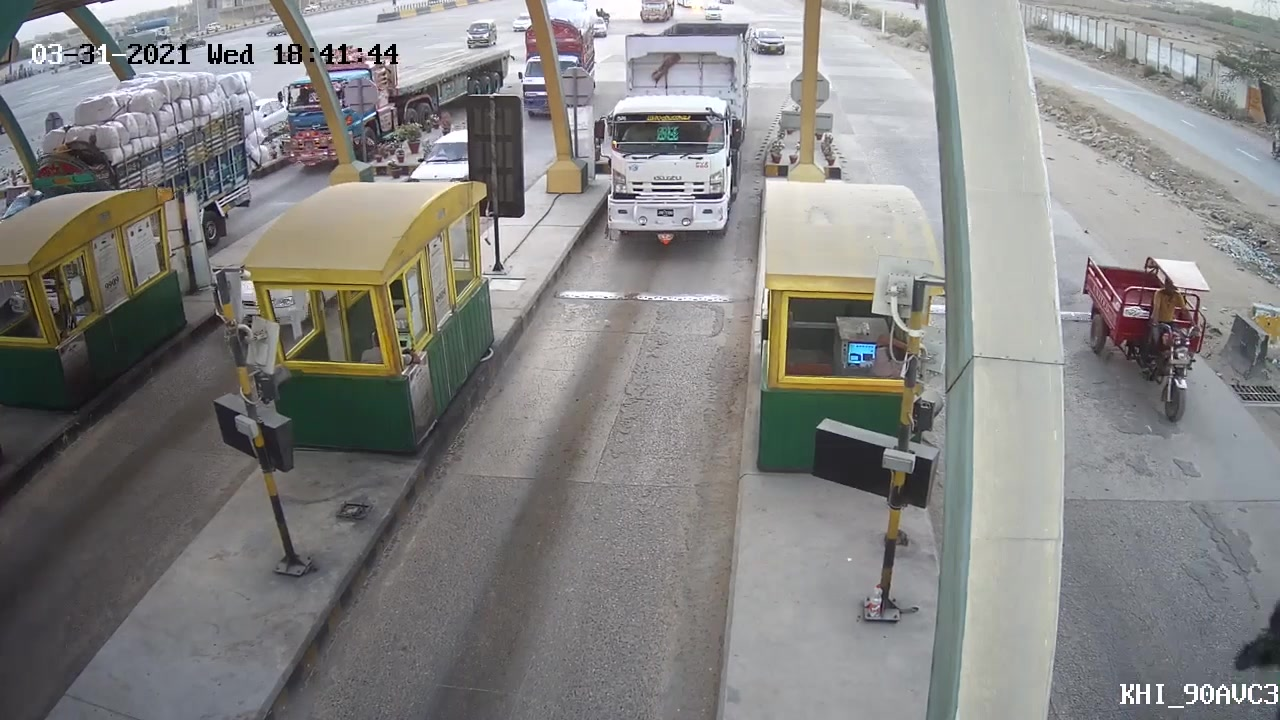F5: (590, 16, 764, 253)
